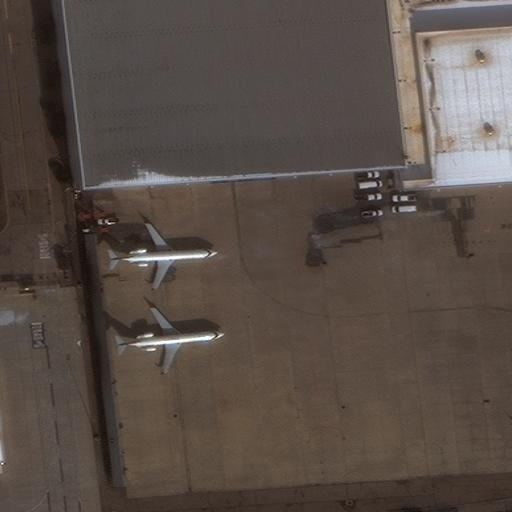Medium Civil Transport: (110, 222, 218, 289), (116, 306, 225, 372)
